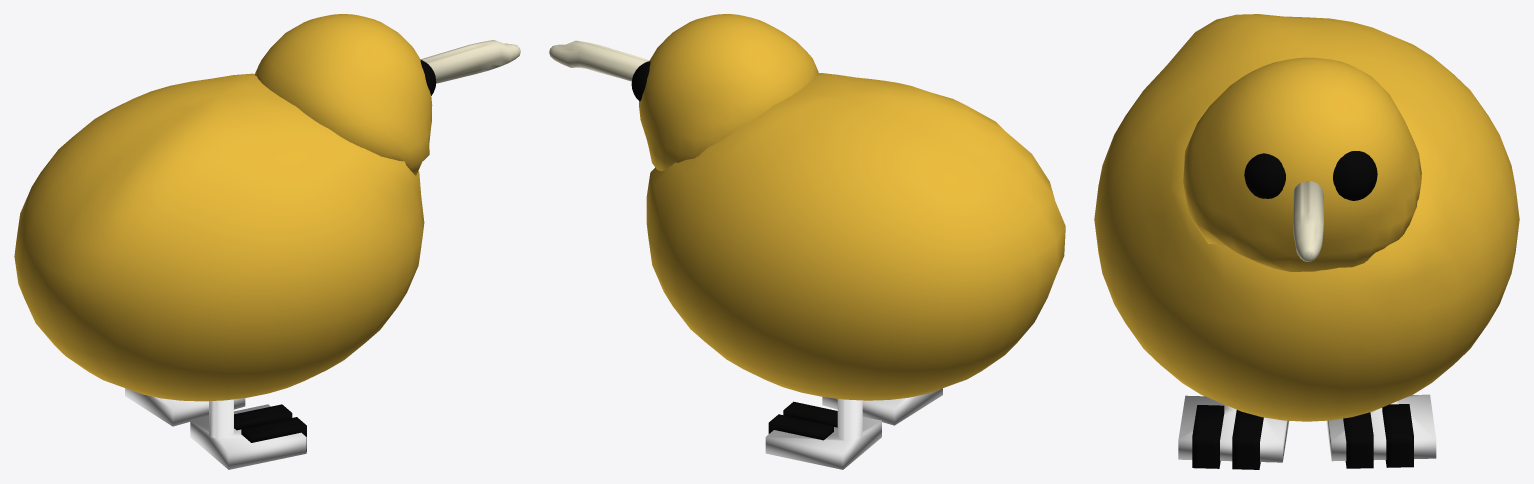
The model's file is nueva-zelanda.glb.
3 renders of one model, left to right at view 1: azimuth 30°, elevation 25°; view 2: azimuth 150°, elevation 25°; view 3: azimuth 270°, elevation 25°, orthographic. The views are drawn at different scales.
Parts seen in each view (by area): view 1: Kiwi; view 2: Kiwi; view 3: Kiwi.
Boxes of the visible parts, bbox=[...] form: Kiwi: bbox=[14, 14, 520, 469]; Kiwi: bbox=[549, 14, 1065, 469]; Kiwi: bbox=[1094, 14, 1519, 469].
Size of the model in its own units: 3.19 by 2.34 by 2.
